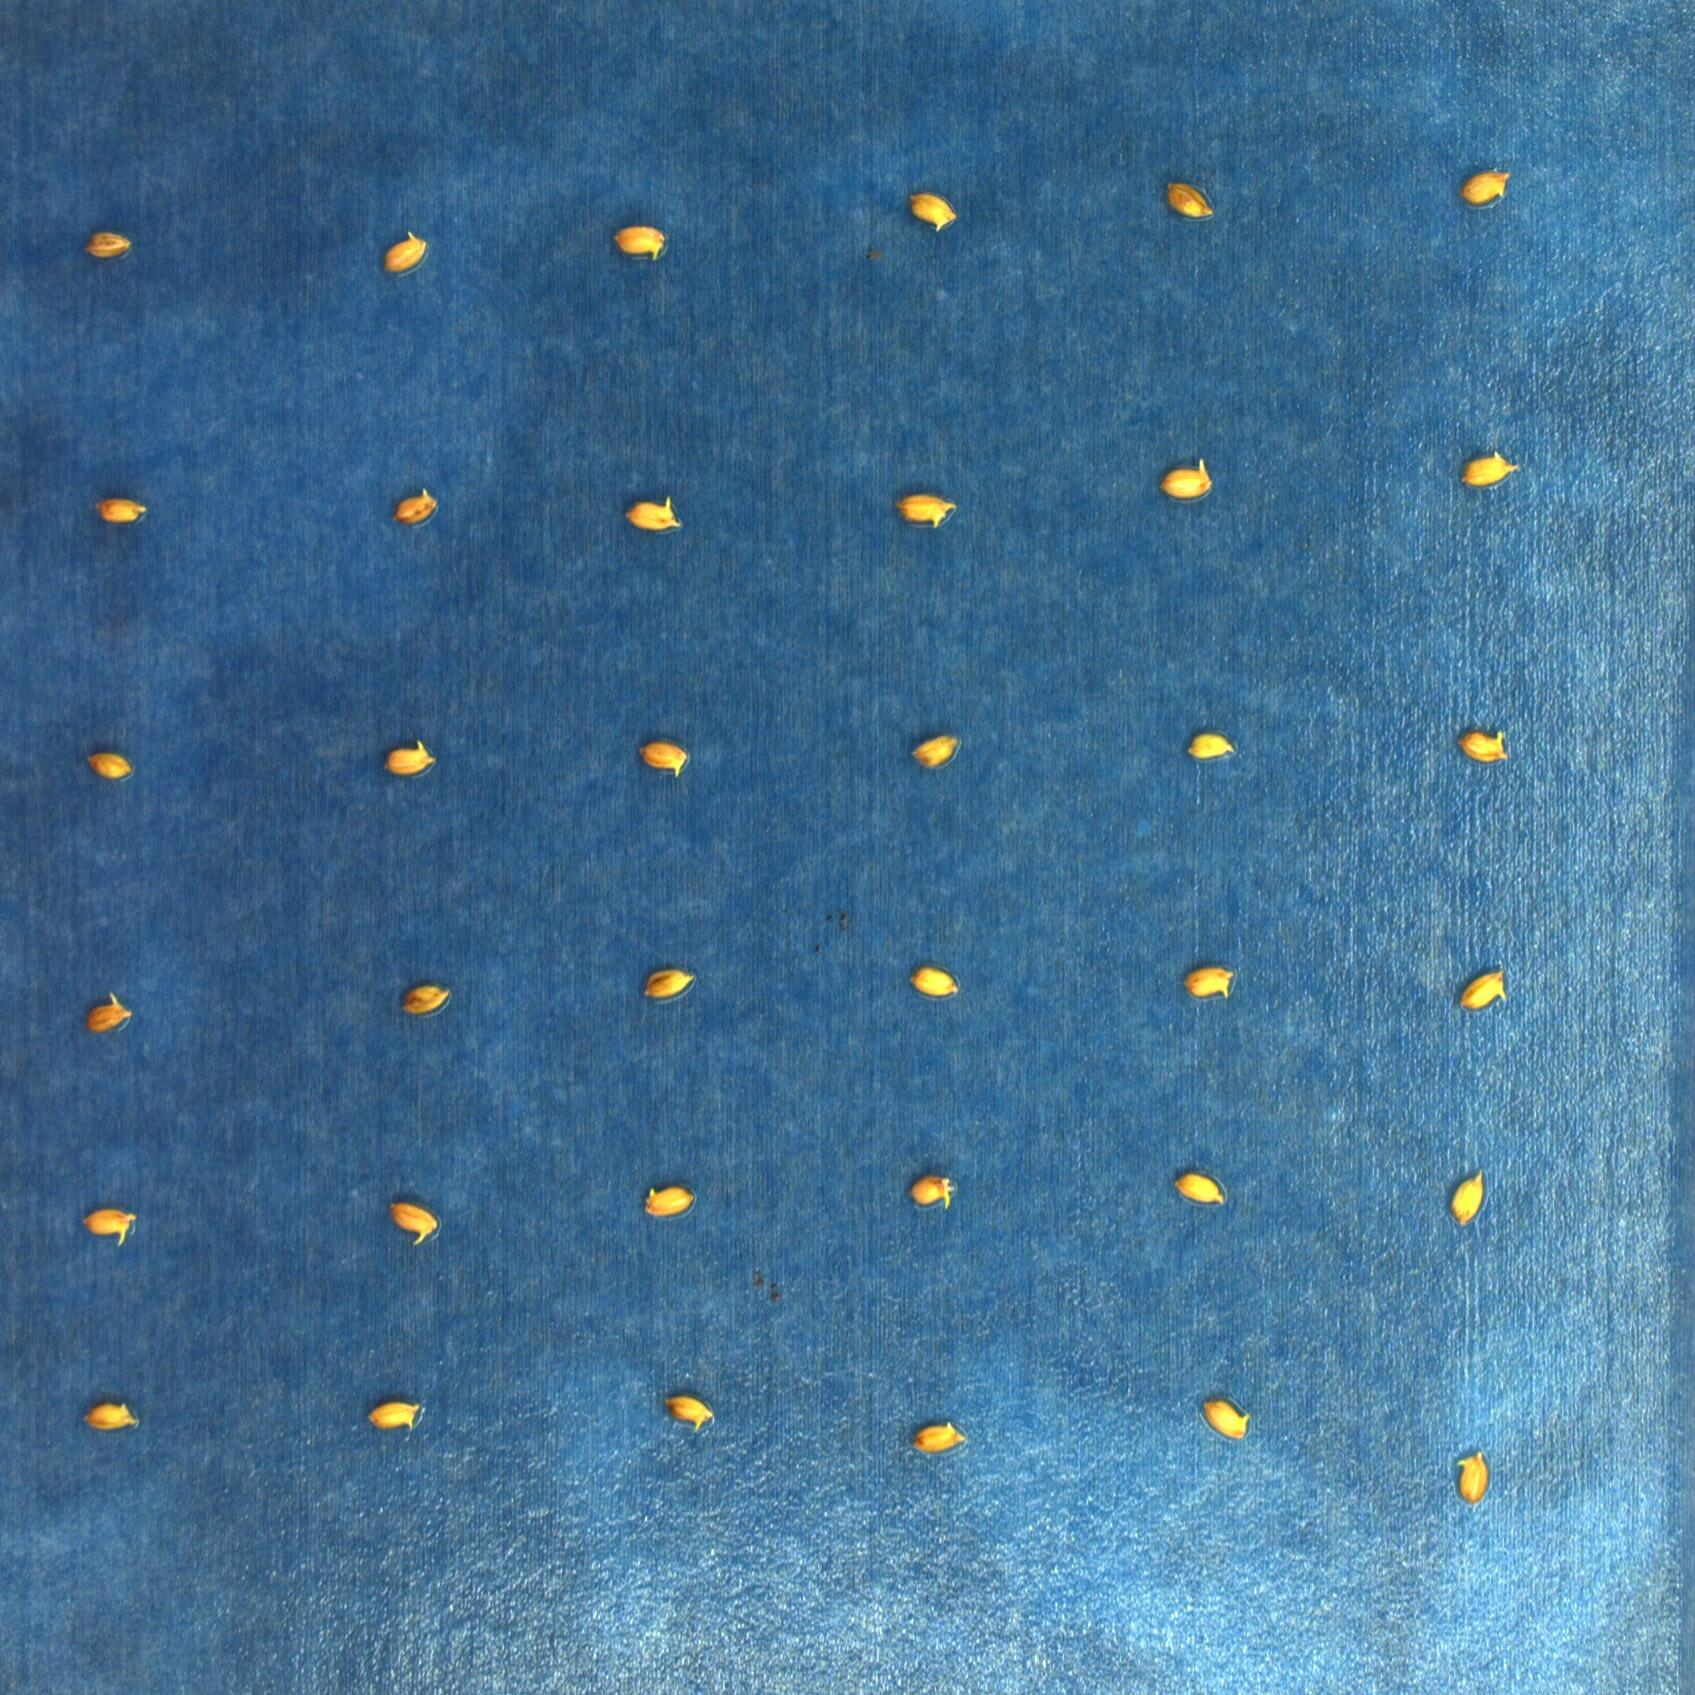not sprout: (1450, 442, 1530, 504), (81, 976, 143, 1052), (643, 1391, 726, 1444), (902, 1163, 973, 1222), (1458, 951, 1516, 1021), (619, 486, 702, 536), (893, 478, 973, 528), (636, 1170, 706, 1226), (1458, 157, 1524, 213), (376, 231, 439, 286), (366, 1389, 424, 1447), (900, 191, 958, 248), (382, 730, 439, 787), (75, 745, 140, 793), (897, 723, 962, 771), (633, 961, 698, 1007), (385, 1194, 445, 1243), (1159, 453, 1220, 503), (1197, 1395, 1256, 1444), (1454, 722, 1520, 765), (73, 1205, 140, 1246), (81, 1394, 146, 1436), (1447, 1163, 1487, 1229), (911, 951, 964, 1001), (1170, 1161, 1226, 1208), (903, 1409, 962, 1451), (635, 730, 689, 775), (1451, 1447, 1492, 1507), (1158, 180, 1209, 225), (1180, 722, 1236, 762), (613, 220, 666, 262), (397, 976, 442, 1023), (81, 227, 130, 269), (96, 490, 144, 529), (393, 487, 438, 528), (1184, 961, 1232, 998)
